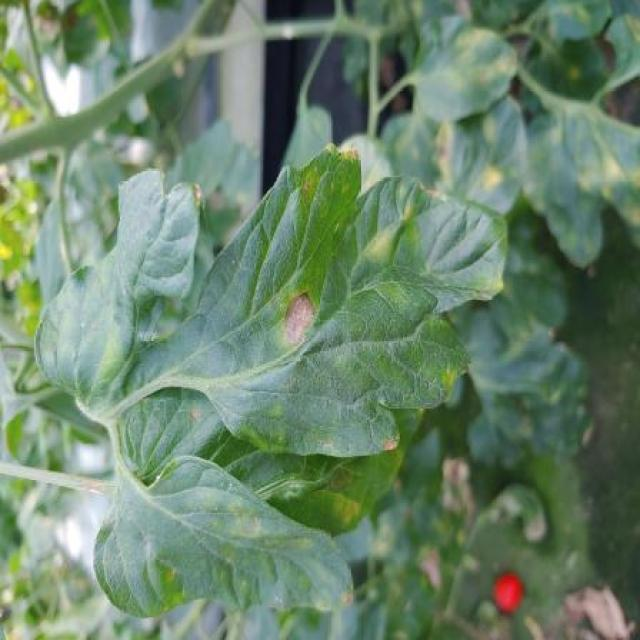Leaf Mold: (38, 141, 511, 458), (94, 453, 355, 621), (415, 11, 519, 122)
